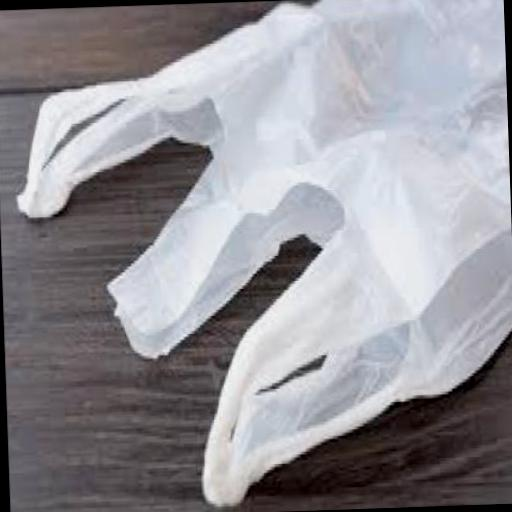plastic: (5, 0, 512, 509)
